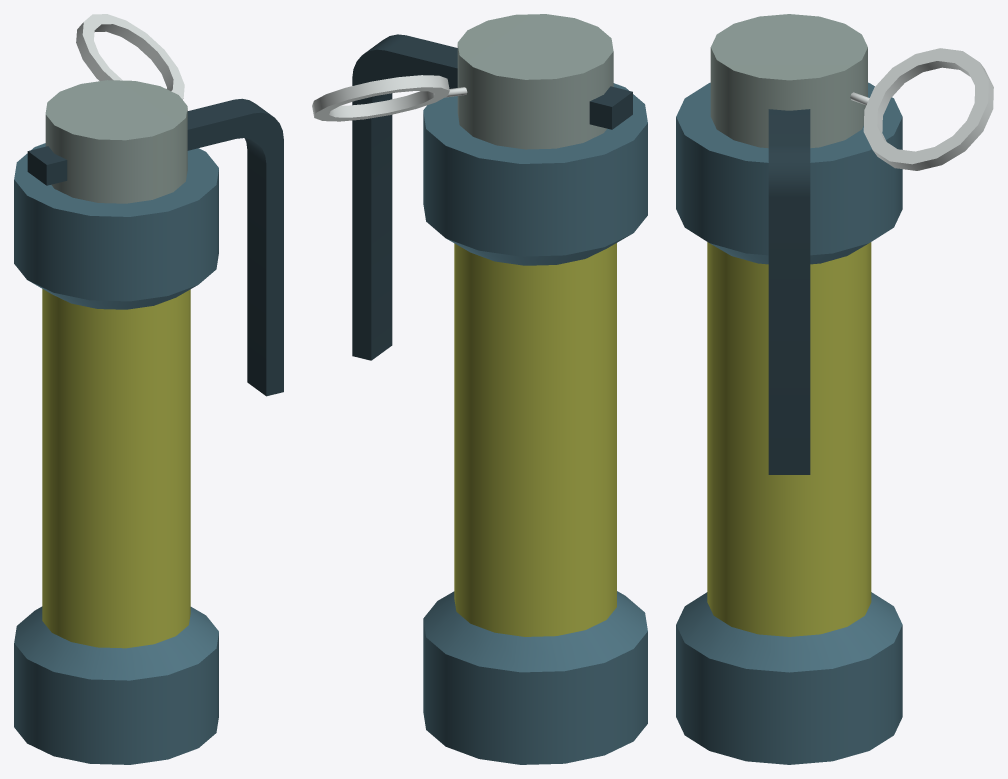
Rendered from Granade 2.fbx.
The picture shows the model from 3 angles, left to right: view 1: azimuth 30°, elevation 25°; view 2: azimuth 150°, elevation 25°; view 3: azimuth 270°, elevation 25°; orthographic projection. The views are drawn at different scales.
Parts seen in each view (by area): view 1: Granade 2; view 2: Granade 2; view 3: Granade 2.
Boxes of the visible parts, x1,y1,x2,y2 form: Granade 2: [14, 14, 283, 764]; Granade 2: [312, 14, 647, 764]; Granade 2: [676, 14, 993, 764].
Bounding box in the file's own units: 0.1804 × 0.4396 × 0.1832.
